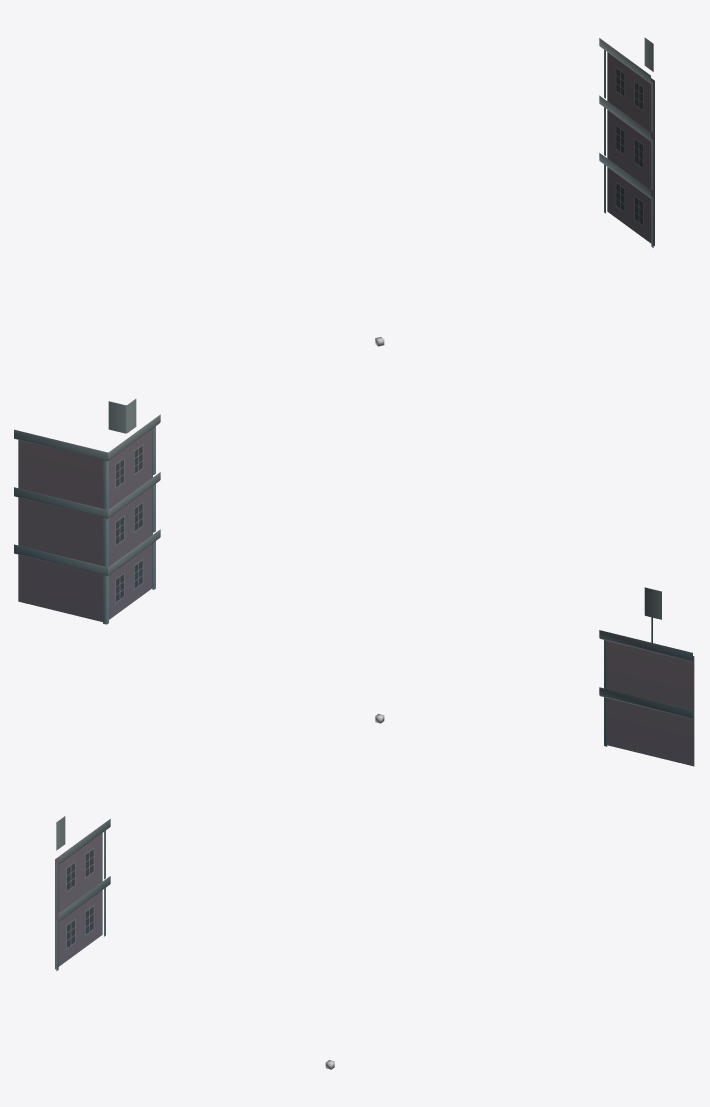
Rendered from FarBackBuilding01.glb.
3 renders of one model, top to bottom at view 1: azimuth 30°, elevation 25°; view 2: azimuth 150°, elevation 25°; view 3: azimuth 330°, elevation 25°, orthographic.
Visible parts, largest first — view 1: FarBackBuilding01; view 2: FarBackBuilding01; view 3: FarBackBuilding01.
Part boxes in pixels (x1,y1,x2,y2): FarBackBuilding01: (375, 37, 654, 346); FarBackBuilding01: (14, 399, 694, 766); FarBackBuilding01: (55, 816, 334, 1069).
Size of the model in its own units: 76.34 by 26.74 by 10.17.
